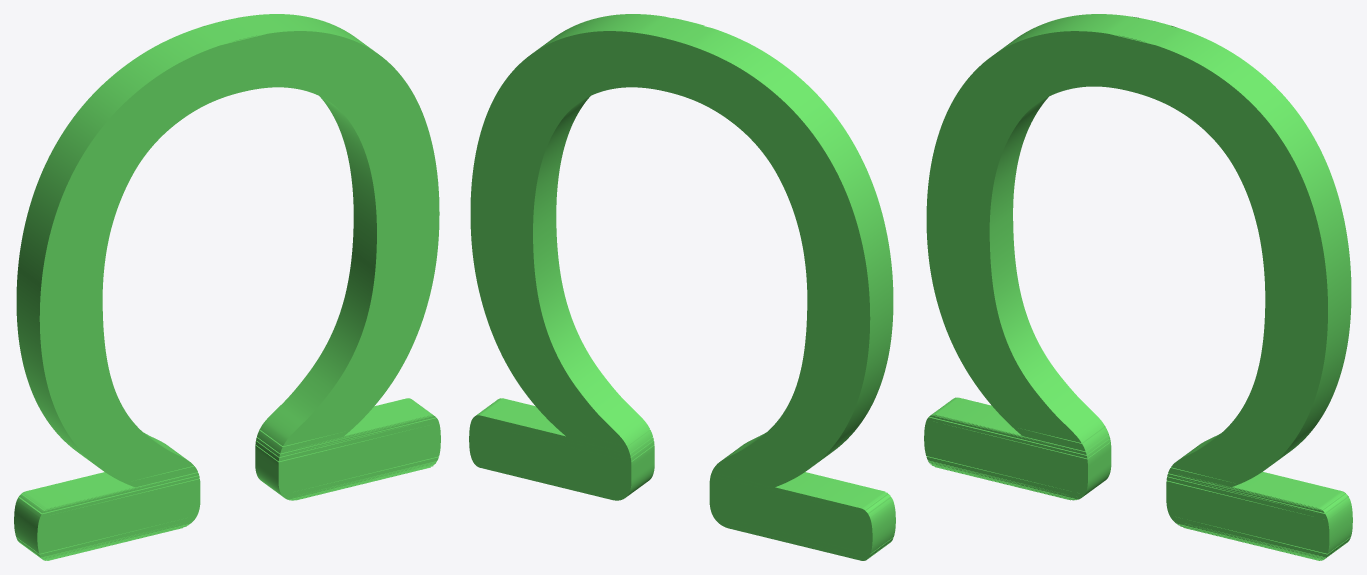
The model's file is omega - testing.gltf.
The picture shows the model from 3 angles, left to right: view 1: azimuth 30°, elevation 25°; view 2: azimuth 150°, elevation 25°; view 3: azimuth 330°, elevation 25°; orthographic projection.
Parts seen in each view (by area): view 1: Text; view 2: Text; view 3: Text.
Part boxes in pixels (<box>): Text: <box>14,14,440,560</box>; Text: <box>469,14,895,560</box>; Text: <box>924,14,1352,560</box>.
Bounding box in the file's own units: 10.73 × 12.06 × 1.07.
